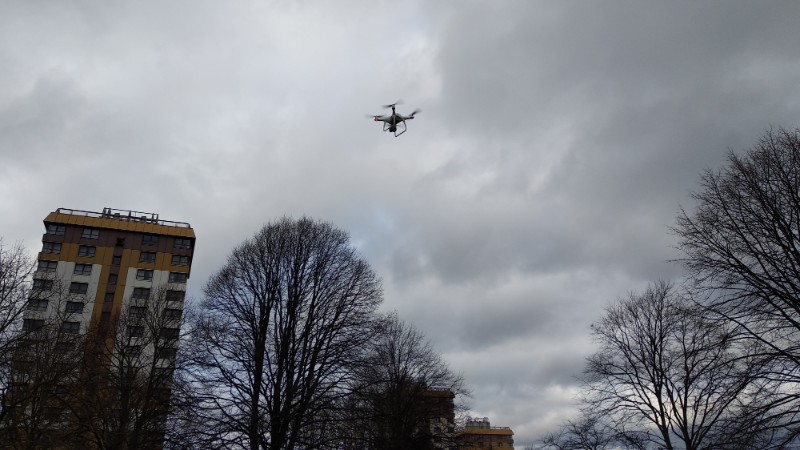drone: (364, 100, 422, 136)
